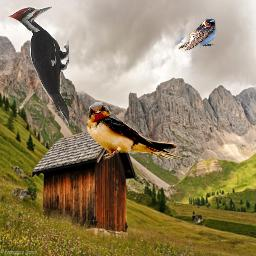Swallow: (85, 102, 189, 165), (178, 18, 217, 52)
Woodpecker: (7, 6, 69, 127)
